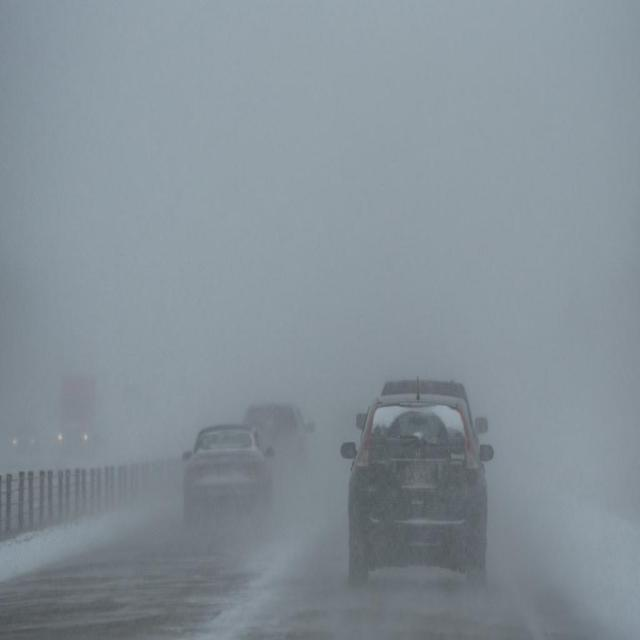Car: (334, 393, 498, 562), (180, 422, 274, 538), (244, 402, 317, 482), (57, 422, 91, 453), (9, 426, 42, 454)
